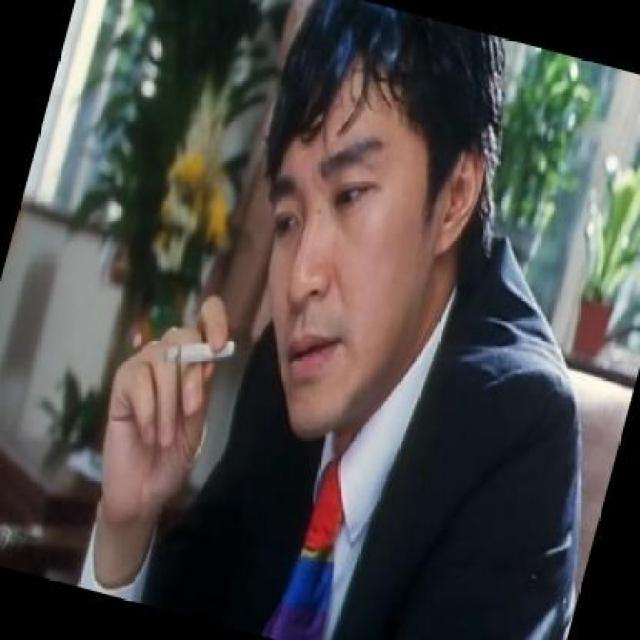smoke: (157, 320, 240, 382)
